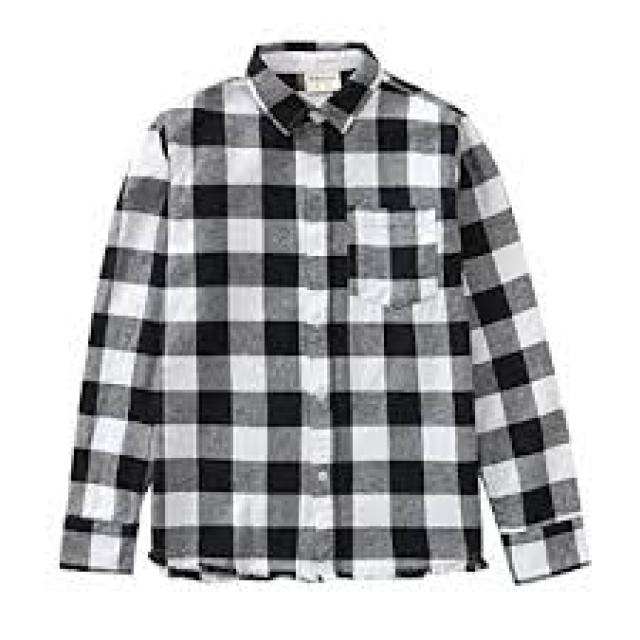plaid: (59, 27, 595, 591)
